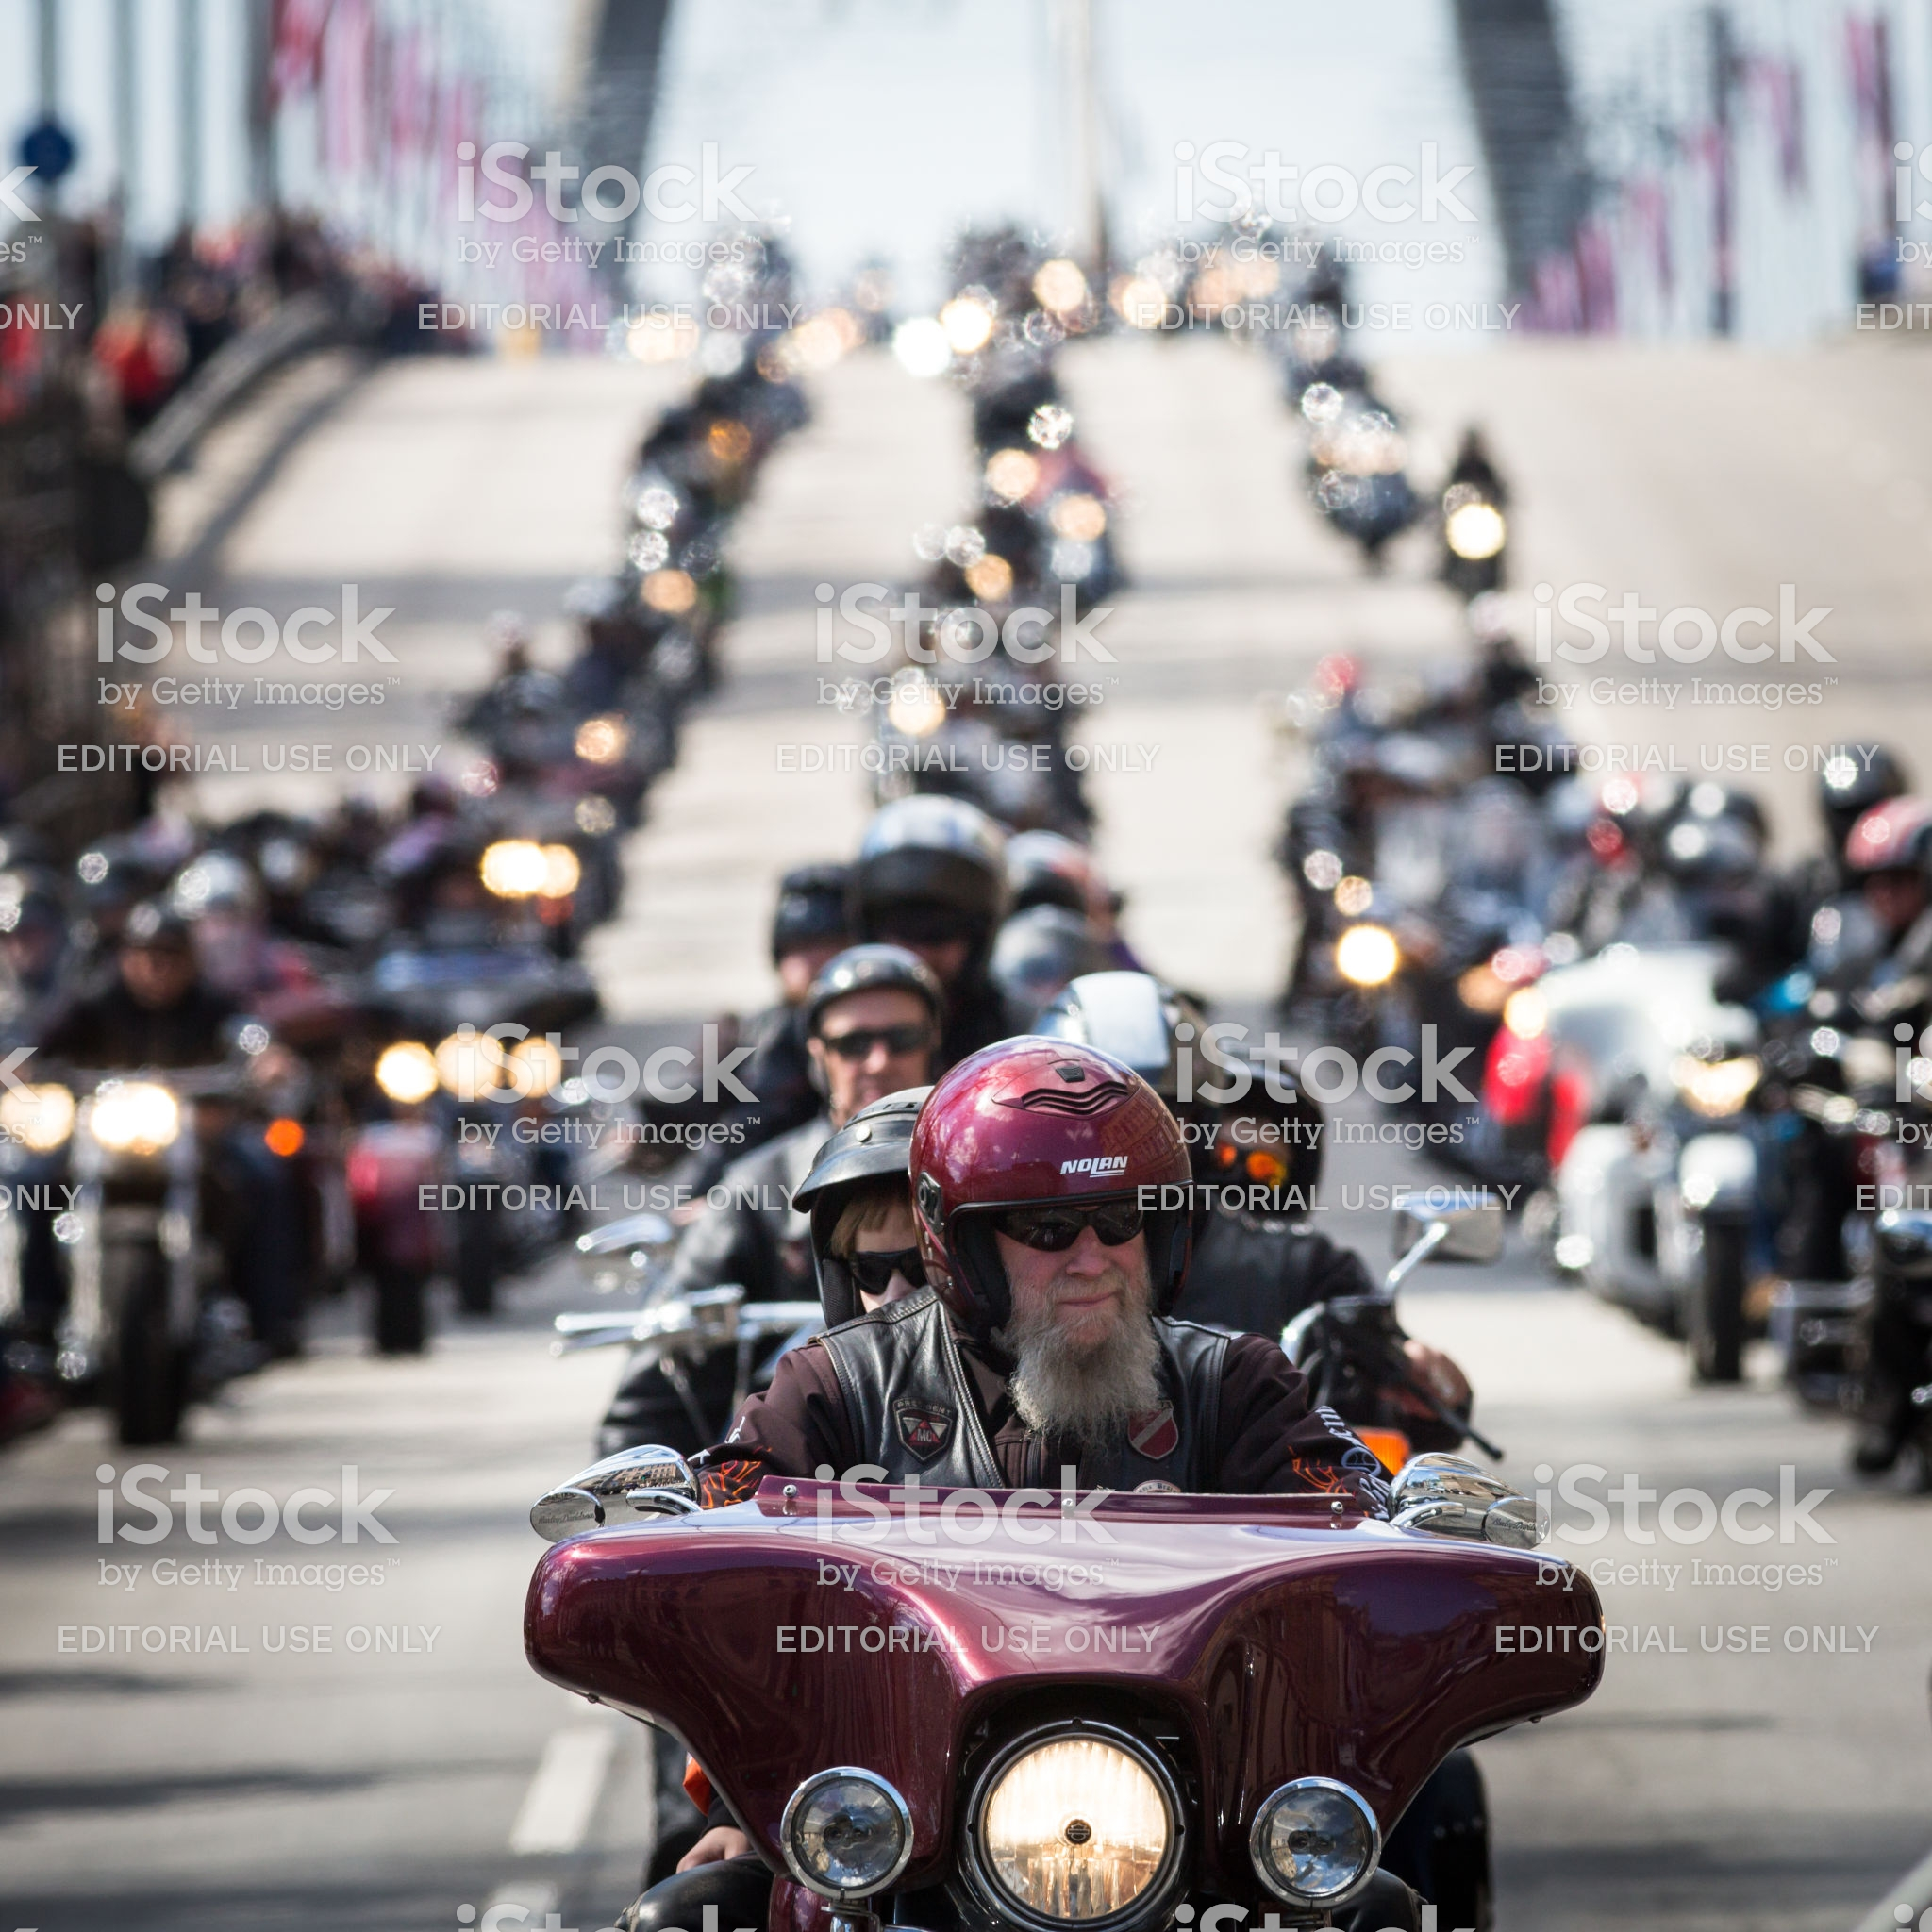helmet: (870, 1014, 1219, 1279)
